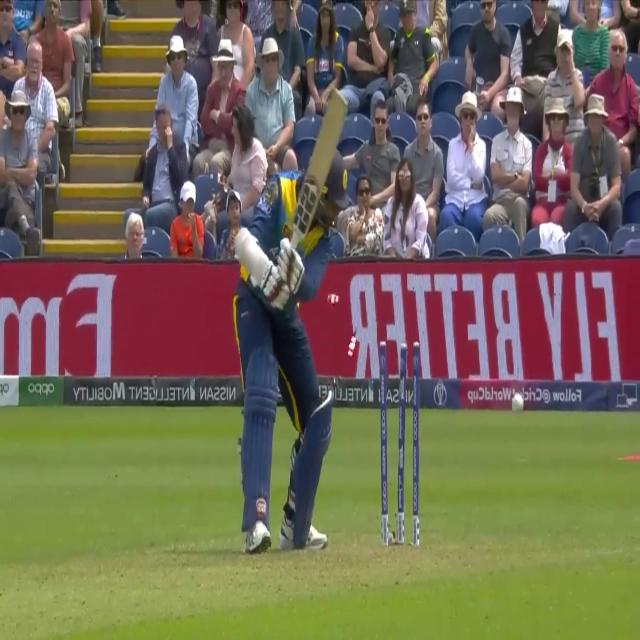ball: (507, 391, 525, 416)
